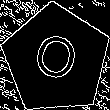O_S: (30, 29, 83, 90)
